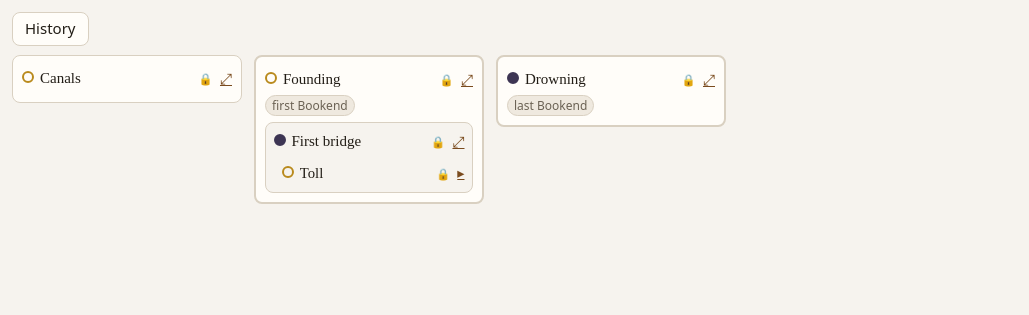
Test: Timeline › expands Scenes to their prose and zooms to a Period and an Event
Click the button named "Show prose of Toll".
click(461, 173)  # box [457,163,464,184]
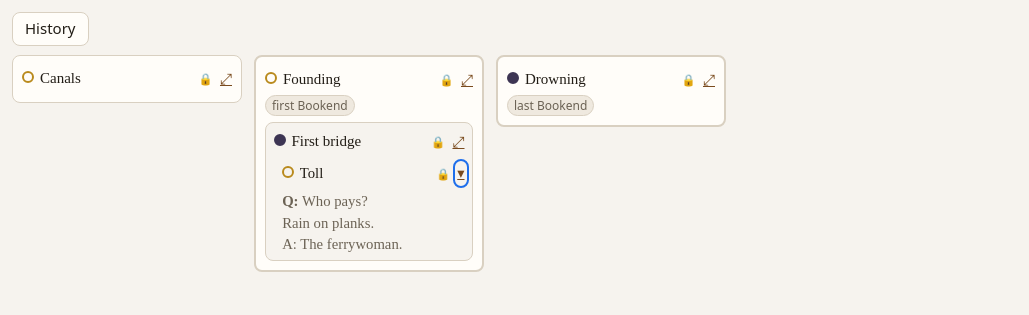
Expected: the text "Q: Who pays? Rain on planks. A: The ferrywoman." is shown, [282,193,402,252]
Click the button named "Zoom to Founding".
click(467, 80)  # box [461,69,473,91]
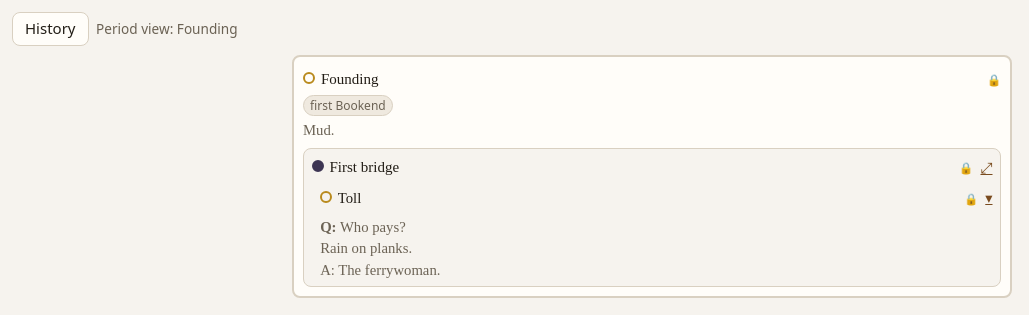
Expected: the number of elements named "Period " is 1, [292,55,1012,298]
Expected: the text "Period view: Founding" is shown, [96,19,238,39]
Expected: the text "Mud." is shown, [303,122,334,138]
Click the button named "Zoom to First bridge".
click(986, 168)  # box [980,157,992,179]
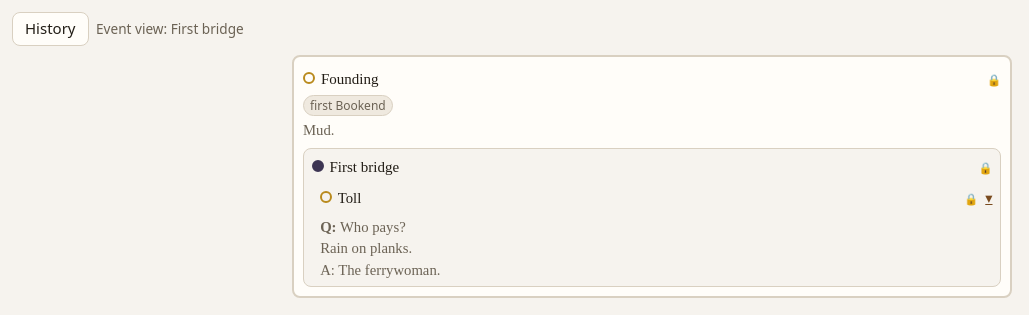
Expected: the text "Event view: First bridge" is shown, [96,19,244,39]
Click the button "History".
click(50, 29)  # box [12,12,88,46]
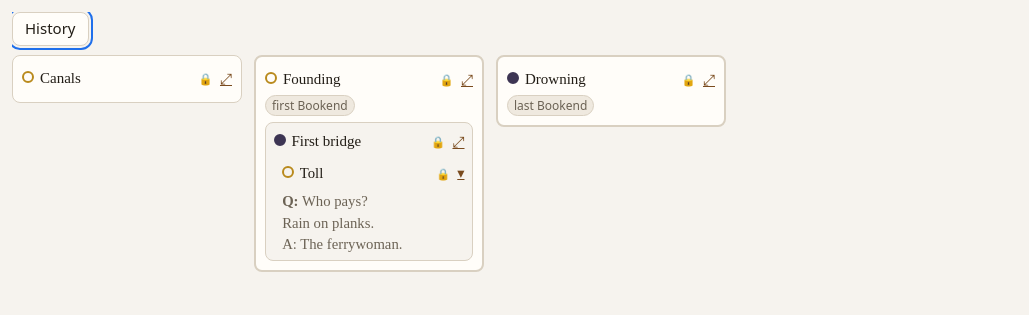
Expected: the number of elements named "Period " is 3, [12,55,242,103]; [254,55,484,272]; [496,55,726,127]
